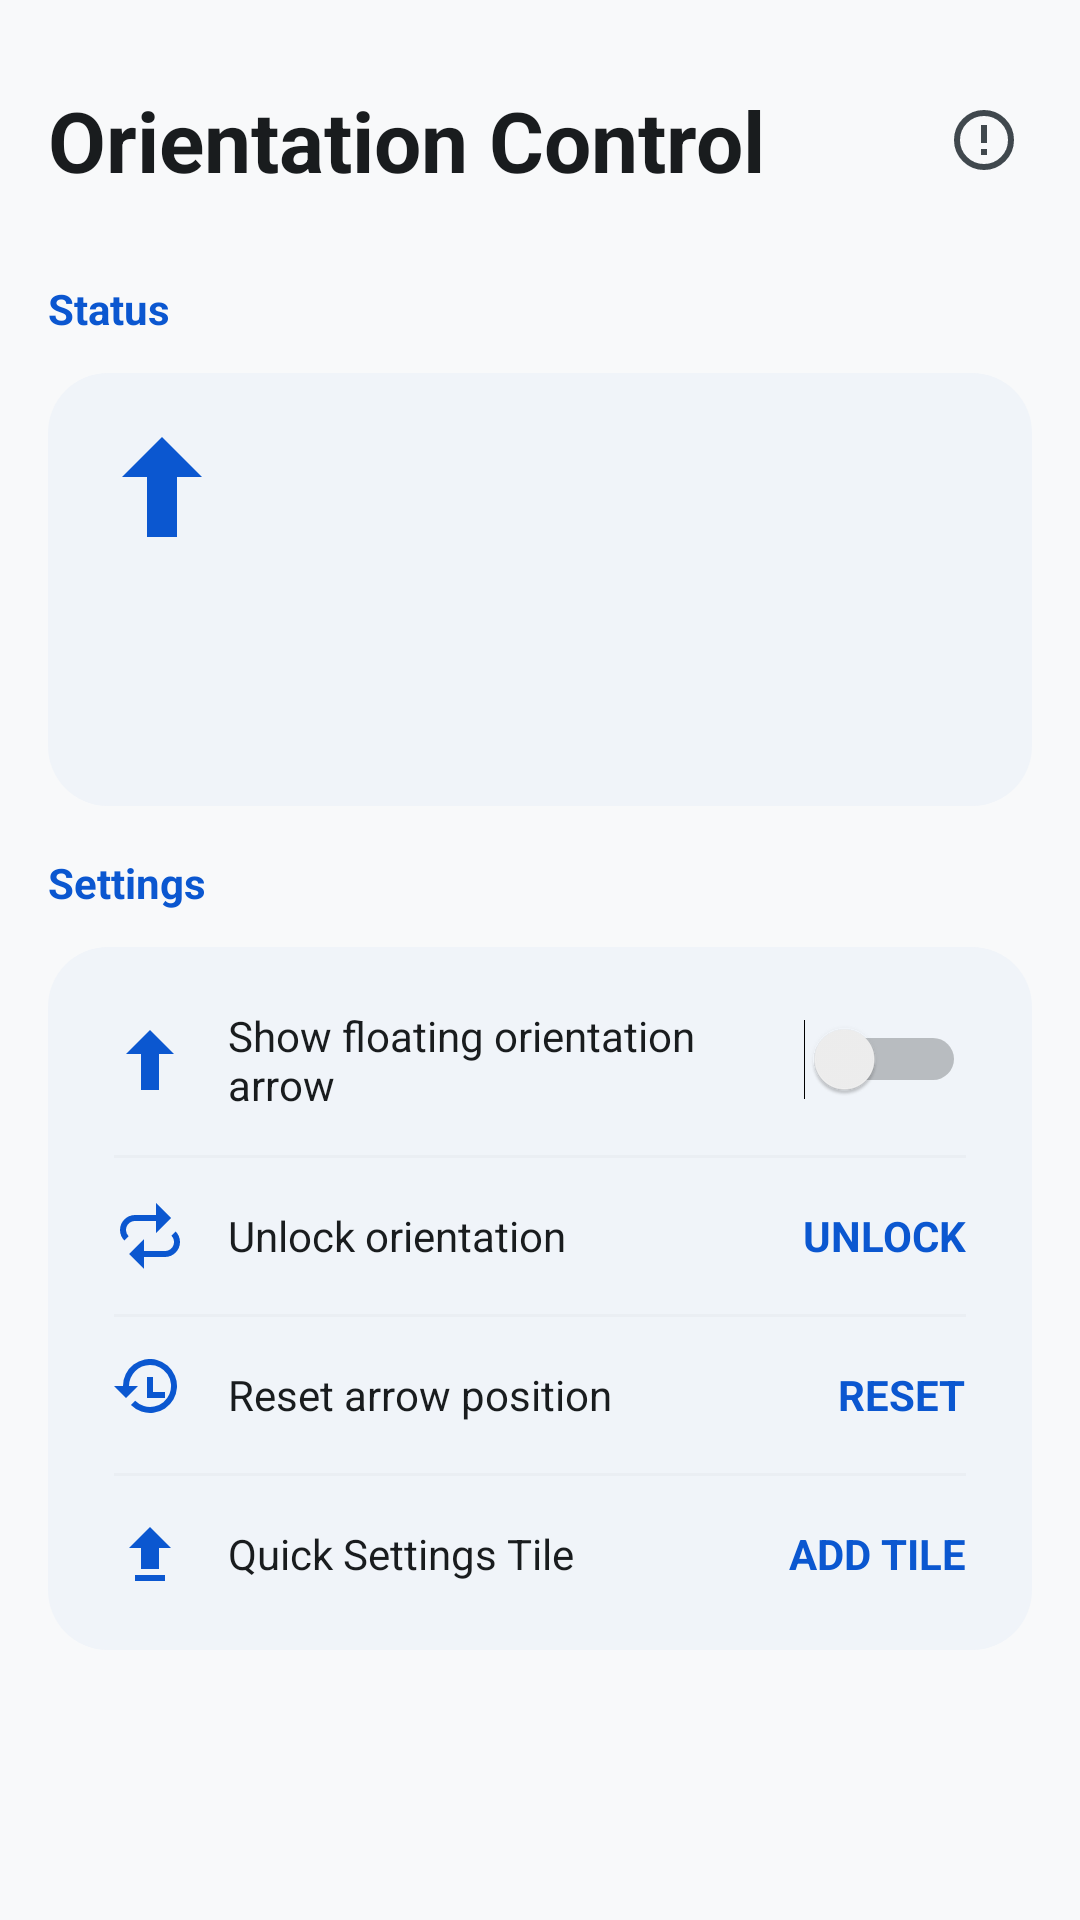

Icon click points for this 1080×1920 phone screenshot, format [x,y]:
rotate system: [150,1236]
